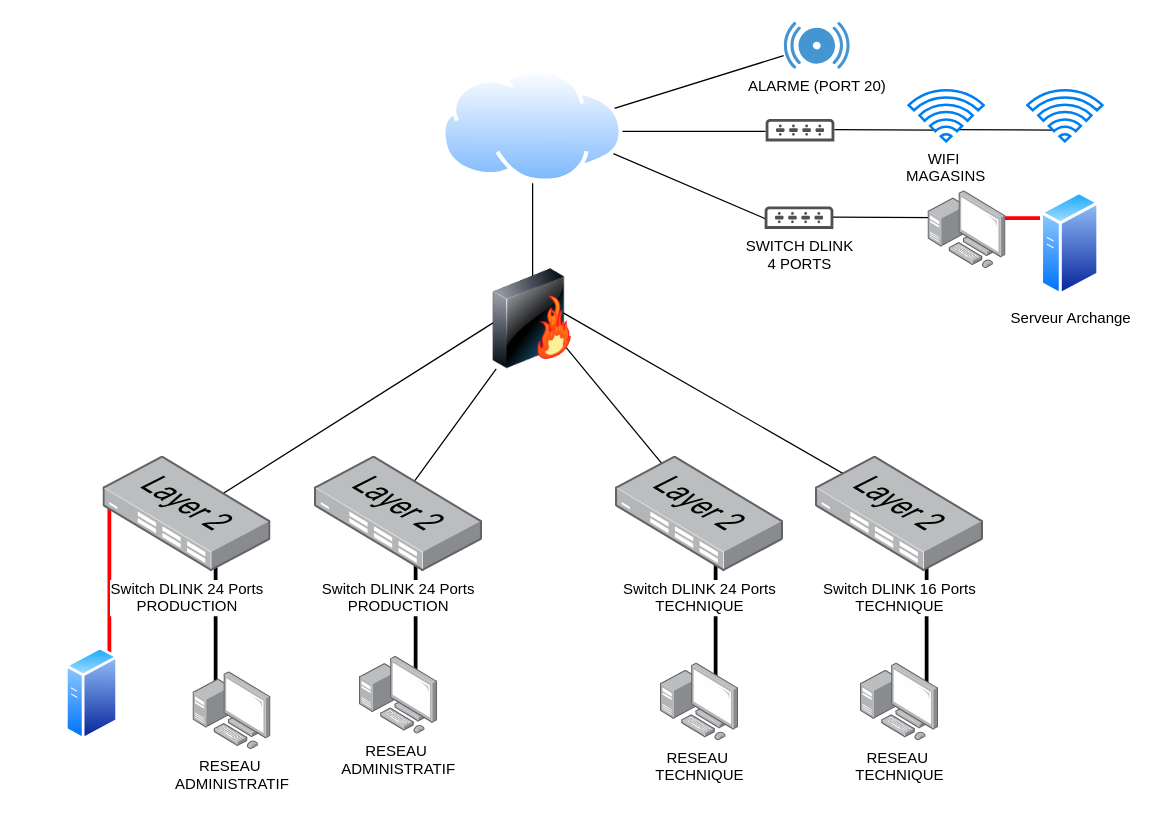
Some shapes in this 1153 by 816 pixel diagram are drawn without their labels. The centre of each missing label's shape, as x and y in pixels:
Livebox - Acces Internet: point (532, 125)
PC RESERVE: point (967, 229)
Serveur Windows AD Serveur SQL: point (91, 693)
SWITCH NETGEAR 4Port POE: point (799, 129)
WIFI ATELIER: point (1064, 115)
Zyxel - PareFeu: point (532, 318)
